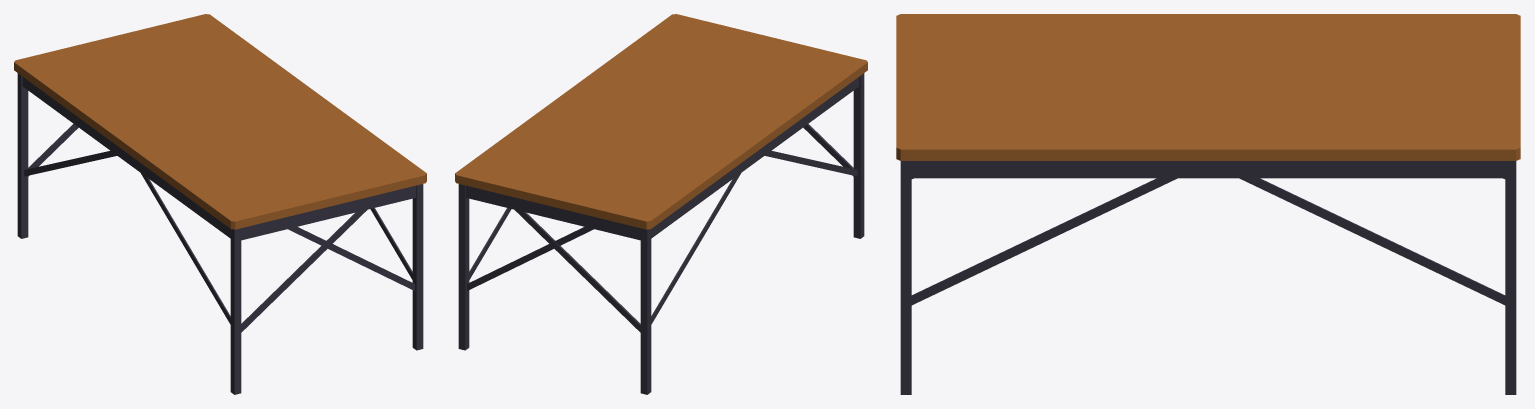
The model's file is Prop_Table_B.fbx.
The picture shows the model from 3 angles, left to right: view 1: azimuth 30°, elevation 25°; view 2: azimuth 150°, elevation 25°; view 3: azimuth 270°, elevation 25°; orthographic projection. The views are drawn at different scales.
Visible parts, largest first — view 1: Prop_Table_B; view 2: Prop_Table_B; view 3: Prop_Table_B.
Part boxes in pixels (x1,y1,x2,y2): Prop_Table_B: (14, 14, 426, 394); Prop_Table_B: (455, 14, 867, 394); Prop_Table_B: (896, 14, 1520, 394).
Size of the model in its own units: 221 by 114 by 96.84.
